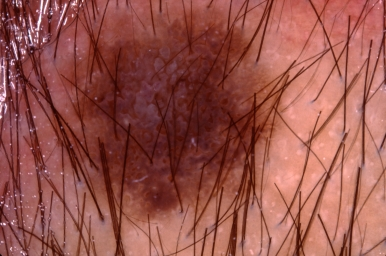seborrheic keratosis: (59, 22, 278, 213)
